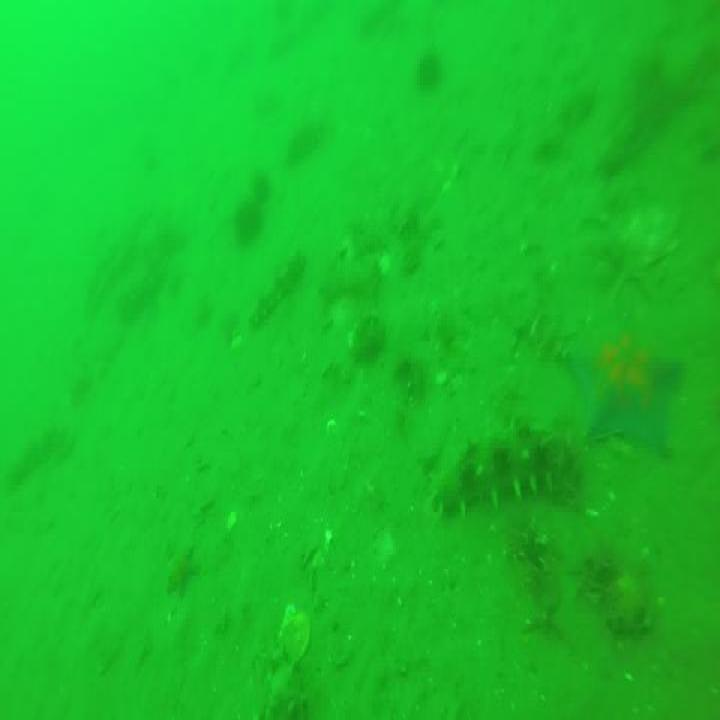holothurian: (416, 425, 582, 519), (241, 251, 303, 320)
scallop: (276, 601, 312, 659)
starfish: (570, 308, 684, 460)
